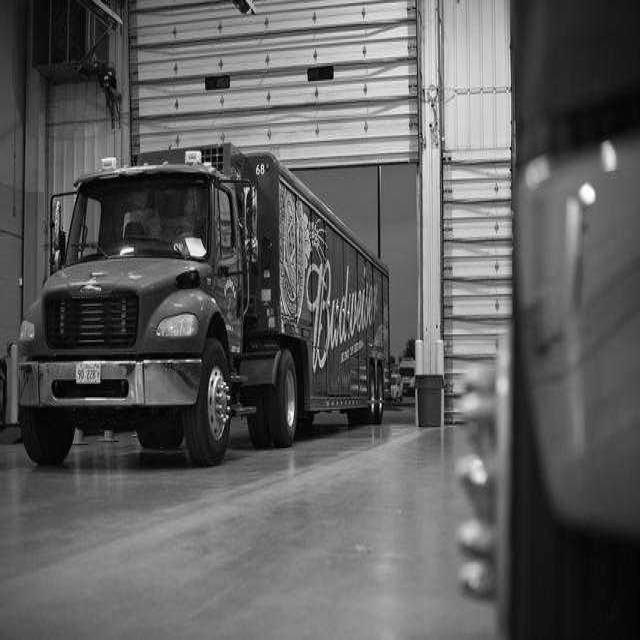Truck: (20, 142, 389, 464)
